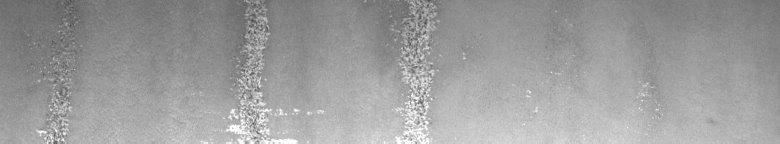hc: (29, 4, 84, 136)
